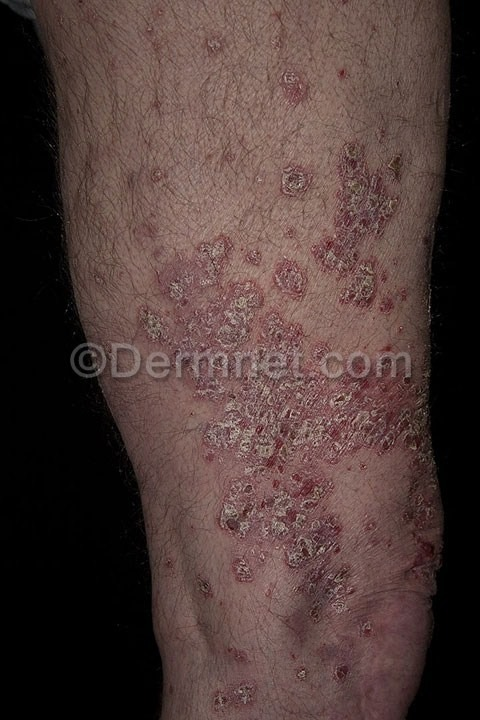Psoriasis: (211, 477, 369, 631), (279, 135, 409, 321), (118, 222, 308, 346), (195, 383, 430, 480), (269, 54, 356, 114), (208, 664, 276, 713)
